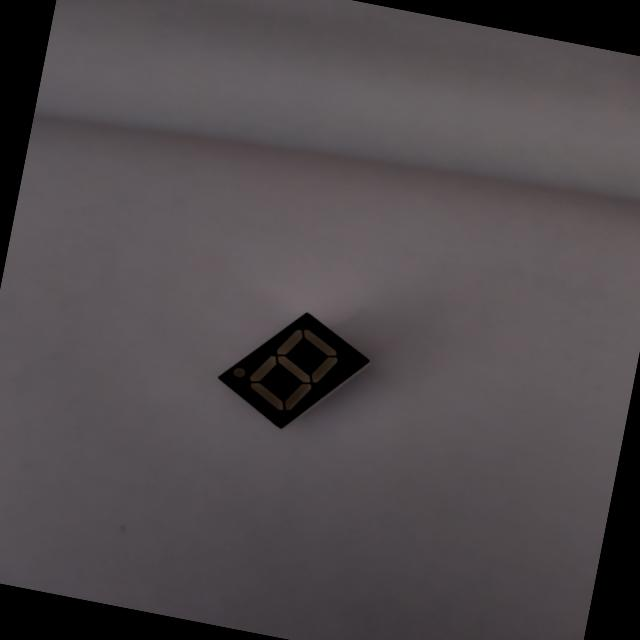sevensegment: (192, 285, 384, 458)
